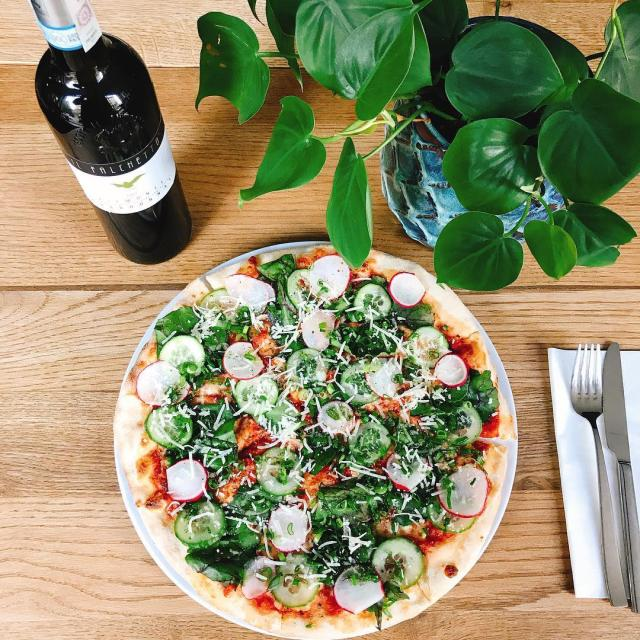basil: (309, 484, 376, 585), (411, 375, 499, 445), (266, 276, 306, 360), (193, 518, 246, 570), (330, 319, 400, 357), (365, 479, 417, 526), (155, 306, 199, 344), (198, 405, 222, 467), (201, 327, 229, 380), (229, 306, 262, 343), (301, 436, 340, 463), (391, 422, 425, 444), (214, 418, 236, 444), (431, 450, 446, 486), (405, 311, 434, 325), (249, 498, 274, 514), (331, 298, 350, 316), (296, 286, 309, 306), (430, 492, 437, 502)
pizza: (115, 244, 515, 640)
